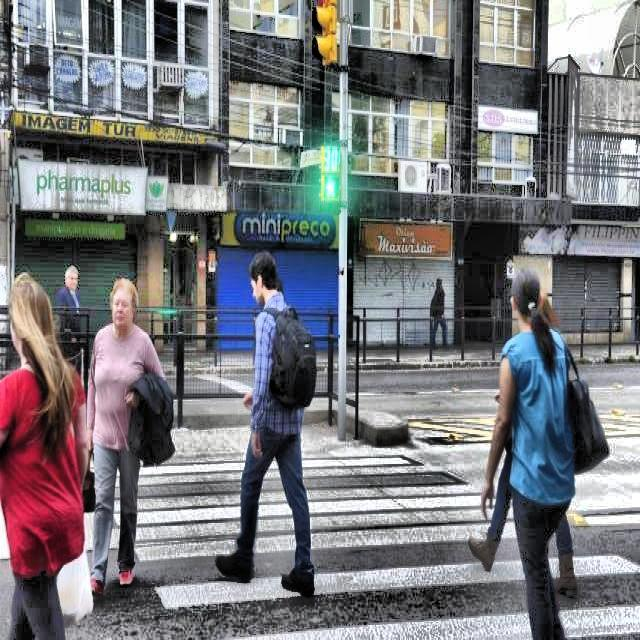faixa de pedestre: (98, 422, 632, 634)
